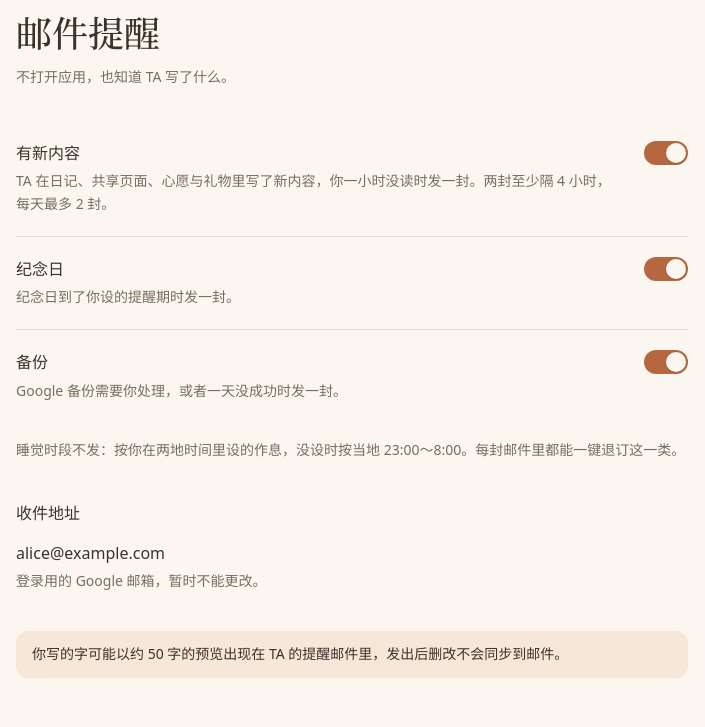
Test: MailPage › says so when saving fails and keeps the switch as the server has it
Click the 3rd switch named "备份": (666, 362) [644, 350, 688, 374]
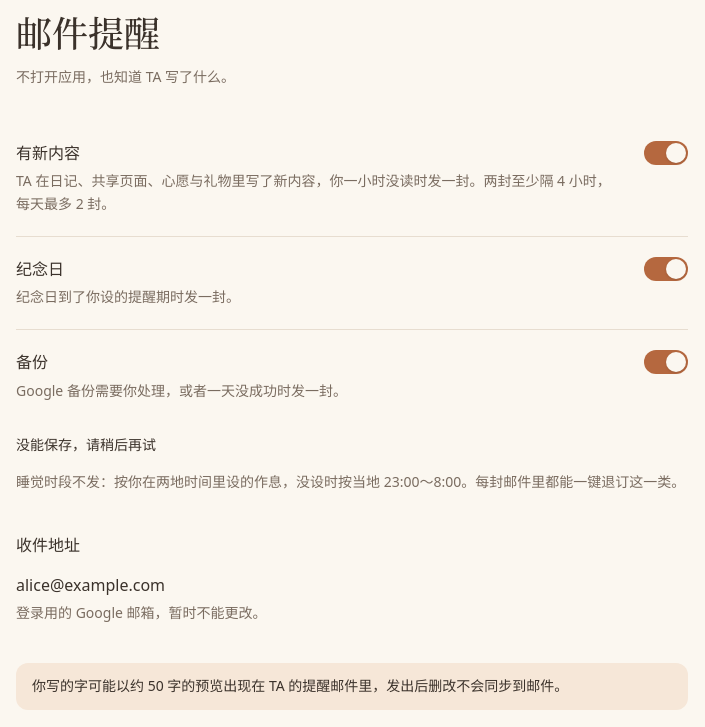
Expected: the message reads "没能保存，请稍后再试", [16, 434, 156, 454]
